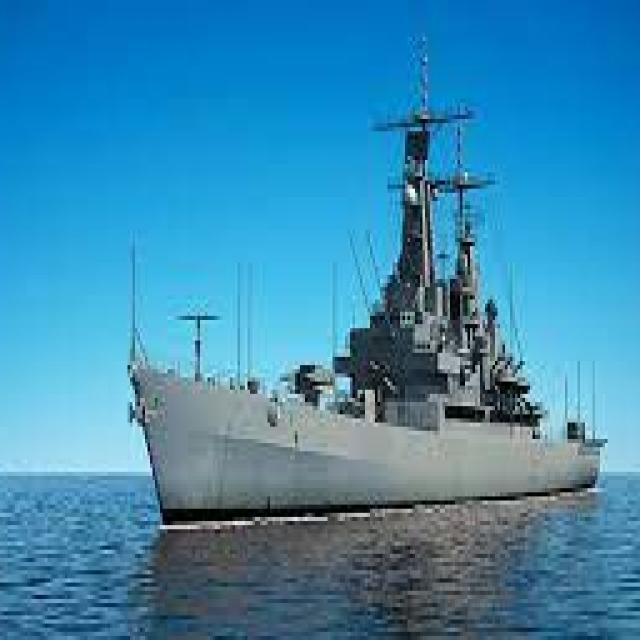navalvessels: (118, 68, 610, 533)
